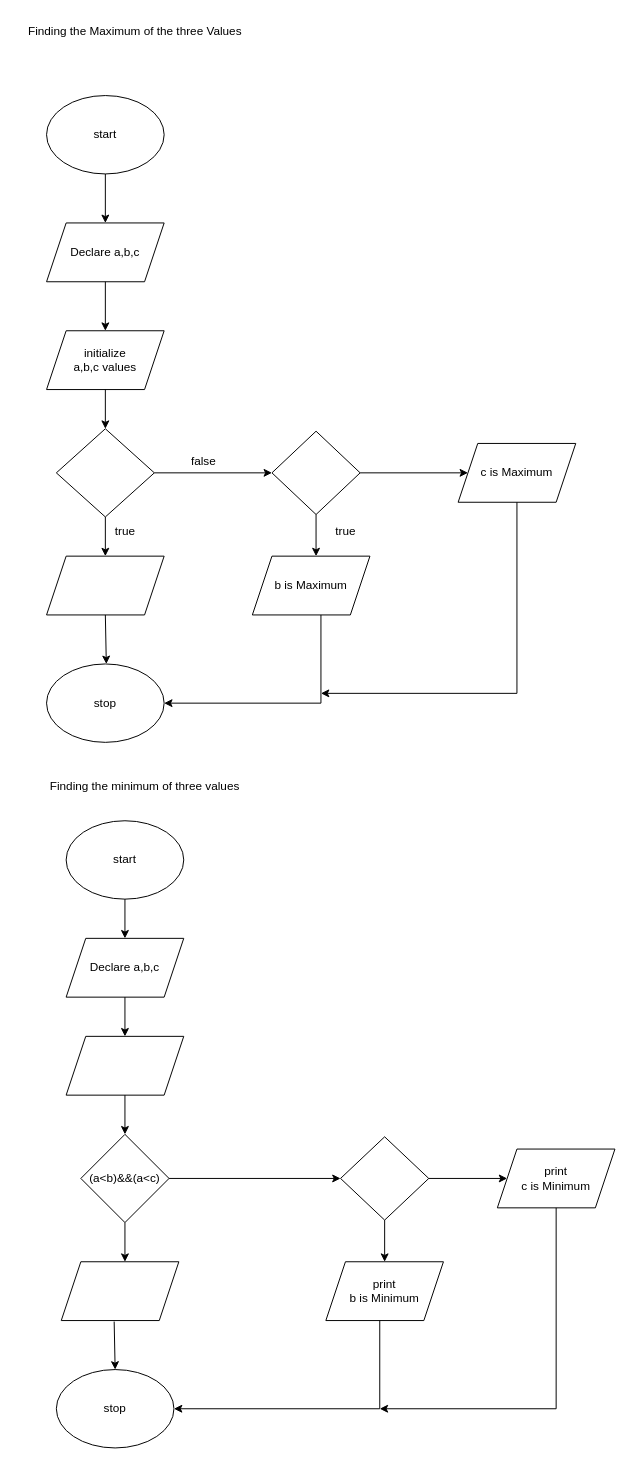
Image size: 632x1465. Some labels were removed from this diagram. The shapes that lost their labels are listed below. From the top down, each one's centre as x and y in pixels, then its label:
At pixel 104 472: "(a>b)&&(a>c)".
At pixel 315 472: "(b>a)&&(b>c)".
At pixel 105 585: "a is Maximum".
At pixel 124 1065: "read a,b,c".
At pixel 384 1178: "(b<a)&&(b<c)".
At pixel 119 1291: "print a is Minimum".
